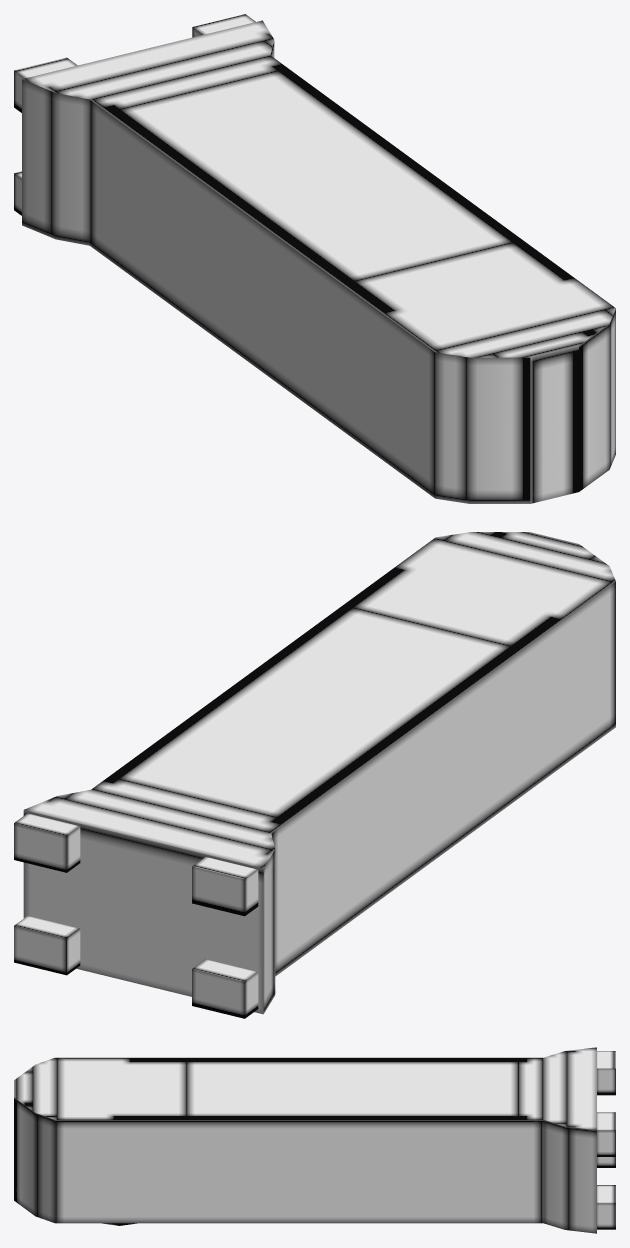
Rendered from Clock.obj.
3 renders of one model, top to bottom at view 1: azimuth 30°, elevation 25°; view 2: azimuth 150°, elevation 25°; view 3: azimuth 270°, elevation 25°, orthographic. The views are drawn at different scales.
Visible parts, largest first — view 1: Cube2; view 2: Cube2; view 3: Cube2.
Part boxes in pixels (x1,y1,x2,y2): Cube2: (14, 14, 615, 503); Cube2: (14, 532, 615, 1018); Cube2: (14, 1047, 615, 1233).
Bounding box in the file's own units: 1.22 × 0.7844 × 3.76.
1 material, 1 textured.
